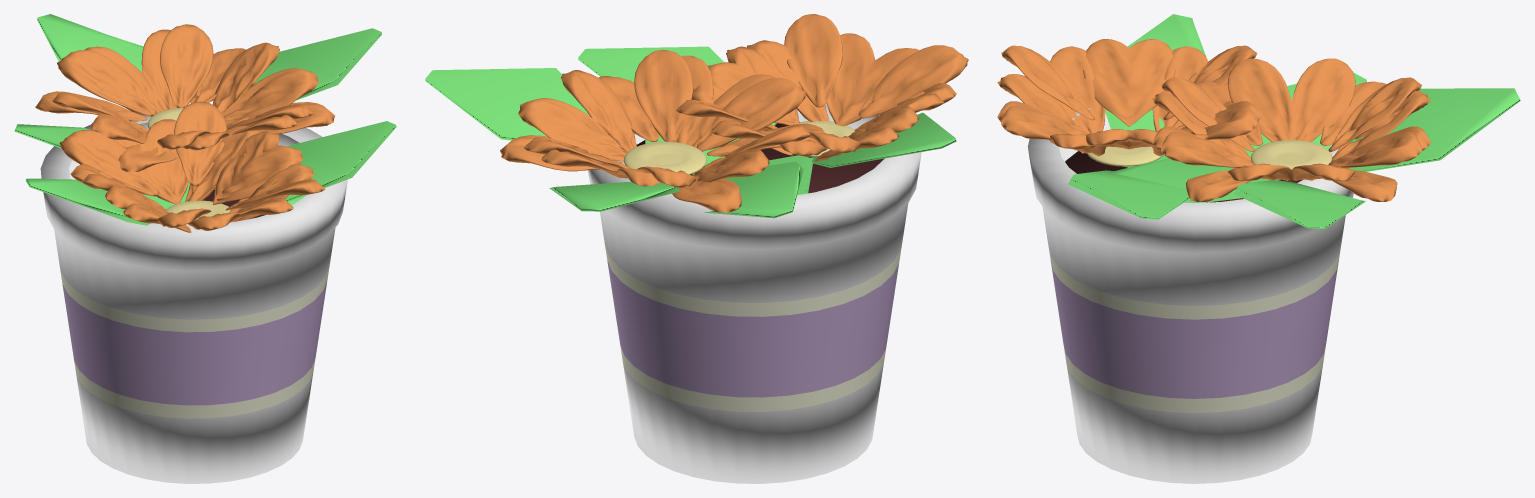
The model's file is pottedplant3.fbx.
The picture shows the model from 3 angles, left to right: view 1: azimuth 30°, elevation 25°; view 2: azimuth 150°, elevation 25°; view 3: azimuth 270°, elevation 25°; orthographic projection. The views are drawn at different scales.
Visible parts, largest first — view 1: Cylinder.003, Sphere.014, Sphere.009, Sphere.015, Sphere.010, Sphere.013, Cube.007, Sphere.008, Cube.006, Sphere.012, Sphere.007, Cube.005 (+3 smaller); view 2: Cylinder.003, Sphere.009, Sphere.014, Sphere.015, Cube.006, Sphere.007, Sphere.013, Sphere.012, Sphere.010, Sphere.008, Cube.004, Cube.009 (+4 smaller); view 3: Cylinder.003, Sphere.015, Sphere.014, Sphere.009, Sphere.010, Cube.005, Sphere.008, Sphere.013, Cube.006, Sphere.012, Cube.007, Sphere.007 (+4 smaller).
Boxes of the visible parts, bbox=[...] form: Cylinder.003: bbox=[40, 112, 347, 483]; Sphere.014: bbox=[57, 24, 313, 149]; Sphere.009: bbox=[59, 101, 324, 227]; Sphere.015: bbox=[52, 42, 318, 143]; Sphere.010: bbox=[82, 131, 303, 215]; Sphere.013: bbox=[35, 48, 334, 172]; Cube.007: bbox=[285, 121, 396, 201]; Sphere.008: bbox=[70, 125, 314, 232]; Cube.006: bbox=[254, 28, 381, 100]; Sphere.012: bbox=[84, 29, 297, 150]; Sphere.007: bbox=[114, 119, 293, 230]; Cube.005: bbox=[37, 14, 143, 72]; Cylinder.003: bbox=[588, 103, 921, 483]; Sphere.009: bbox=[676, 14, 968, 153]; Sphere.014: bbox=[524, 49, 806, 187]; Sphere.015: bbox=[518, 70, 810, 182]; Cube.006: bbox=[425, 68, 589, 140]; Sphere.007: bbox=[711, 33, 919, 156]; Sphere.013: bbox=[500, 76, 824, 212]; Sphere.012: bbox=[541, 55, 776, 186]; Sphere.010: bbox=[708, 46, 944, 139]; Sphere.008: bbox=[692, 40, 956, 161]; Cube.004: bbox=[704, 161, 803, 218]; Cube.009: bbox=[811, 112, 956, 167]; Cylinder.003: bbox=[1027, 108, 1353, 483]; Sphere.015: bbox=[1228, 58, 1355, 181]; Sphere.014: bbox=[1161, 77, 1422, 168]; Sphere.009: bbox=[1001, 45, 1257, 139]; Sphere.010: bbox=[1083, 39, 1175, 149]; Cube.005: bbox=[1348, 88, 1520, 171]; Sphere.008: bbox=[1049, 46, 1208, 156]; Sphere.013: bbox=[1186, 81, 1397, 201]; Cube.006: bbox=[1233, 180, 1365, 228]; Sphere.012: bbox=[1152, 91, 1430, 168]; Cube.007: bbox=[1068, 170, 1189, 219]; Sphere.007: bbox=[997, 74, 1260, 133].
Size of the model in its own units: 259 by 190 by 262.
